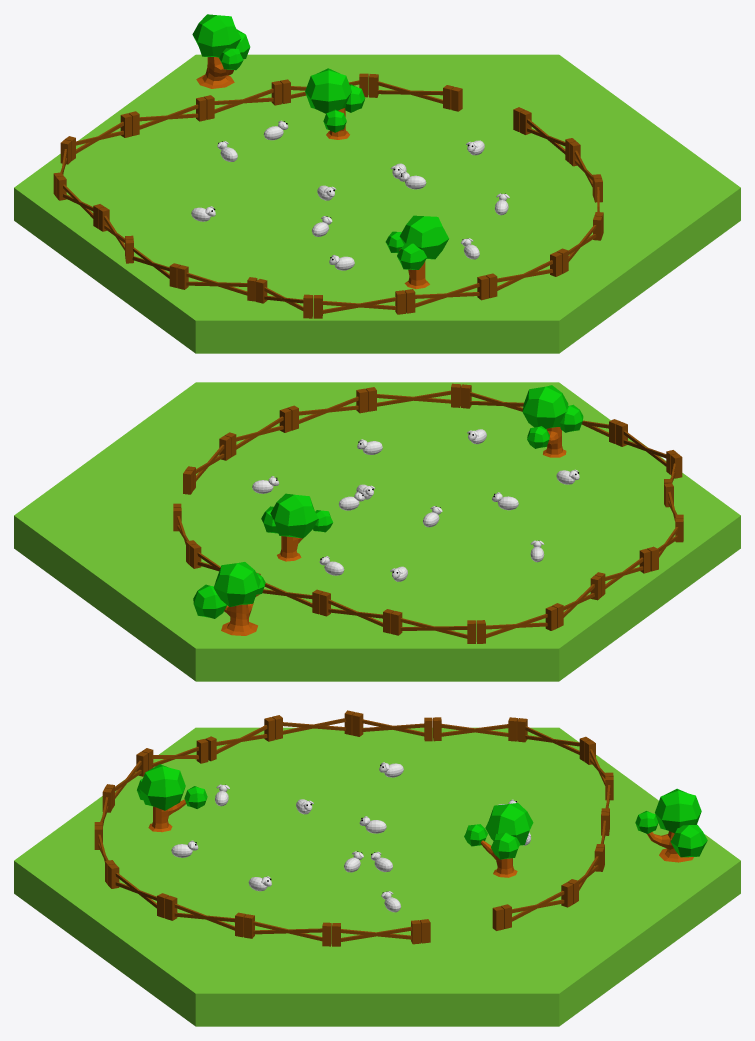
File: HexaSheep.fbx
The picture shows the model from 3 angles, top to bottom: view 1: azimuth 30°, elevation 25°; view 2: azimuth 150°, elevation 25°; view 3: azimuth 270°, elevation 25°; orthographic projection.
Parts seen in each view (by area): view 1: Base, Staccionata, Cube.002, Cube.001, Cube; view 2: Base, Staccionata, Cube.002, Cube.001, Cube; view 3: Base, Staccionata, Cube.002, Cube, Cube.001.
Boxes of the visible parts, x1,y1,x2,y2 form: Base: [14, 54, 740, 353]; Staccionata: [53, 73, 603, 318]; Cube.002: [192, 14, 250, 88]; Cube.001: [385, 215, 448, 289]; Cube: [305, 68, 365, 139]; Base: [14, 382, 740, 681]; Staccionata: [173, 383, 683, 643]; Cube.002: [193, 562, 265, 635]; Cube.001: [522, 385, 583, 457]; Cube: [261, 493, 333, 561]; Base: [14, 727, 740, 1026]; Staccionata: [94, 710, 613, 946]; Cube.002: [635, 788, 707, 862]; Cube: [464, 803, 533, 877]; Cube.001: [137, 764, 207, 832].
Size of the model in its own units: 173 by 29.72 by 200.
